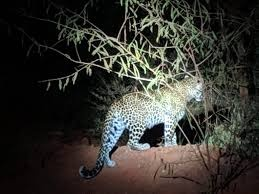leopard: (75, 73, 207, 180)
